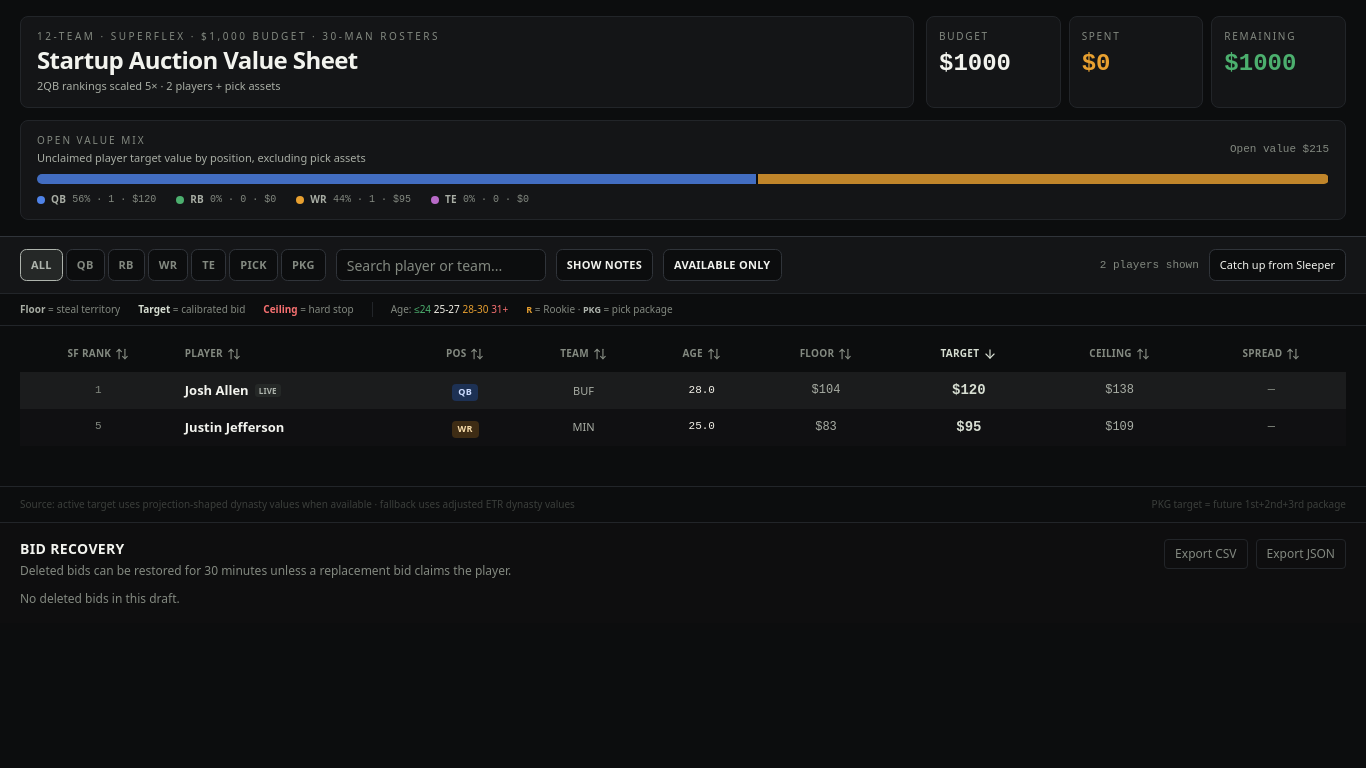
Test case: AuctionSheet with claimed bids › removes the LIVE badge after a nominated player is won
Check: the text "LIVE" is shown, box [255,384,281,397]
Click the button "Josh Allen".
click(217, 390)  # box [185,381,249,400]
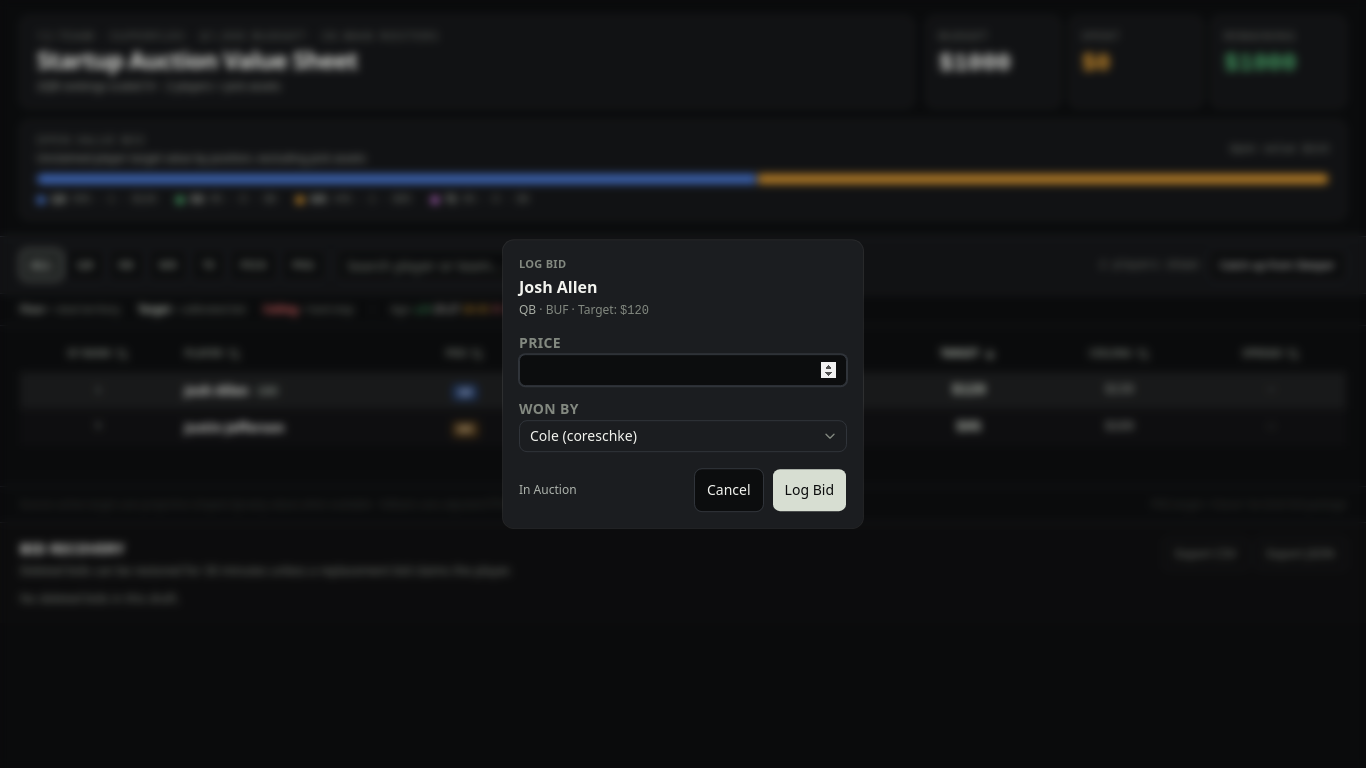
Type "110" into the number field with test id "bid-price".
click(683, 370); type("110")  # box [519,354,847,386]
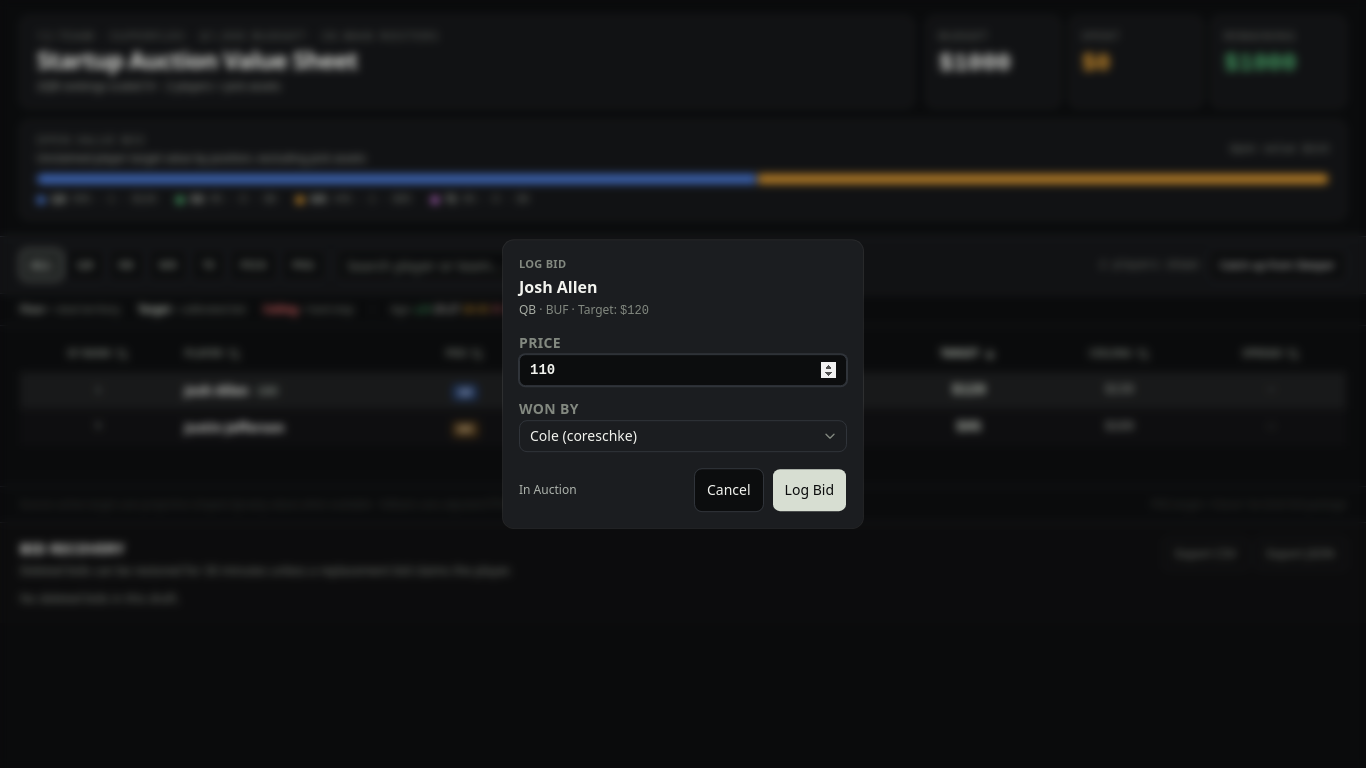
Click the button with test id "bid-submit".
click(809, 490)  # box [772,468,847,512]
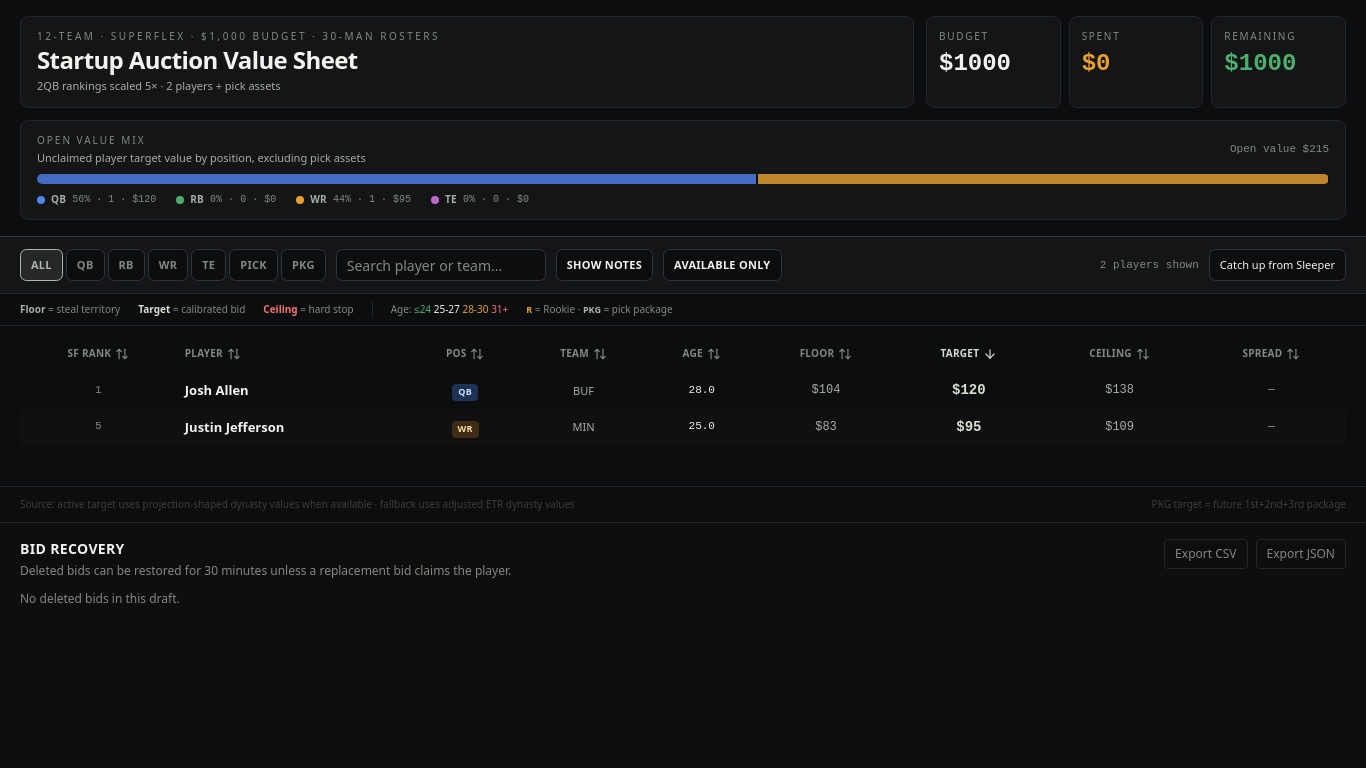
Check: the text "LIVE" is gone
